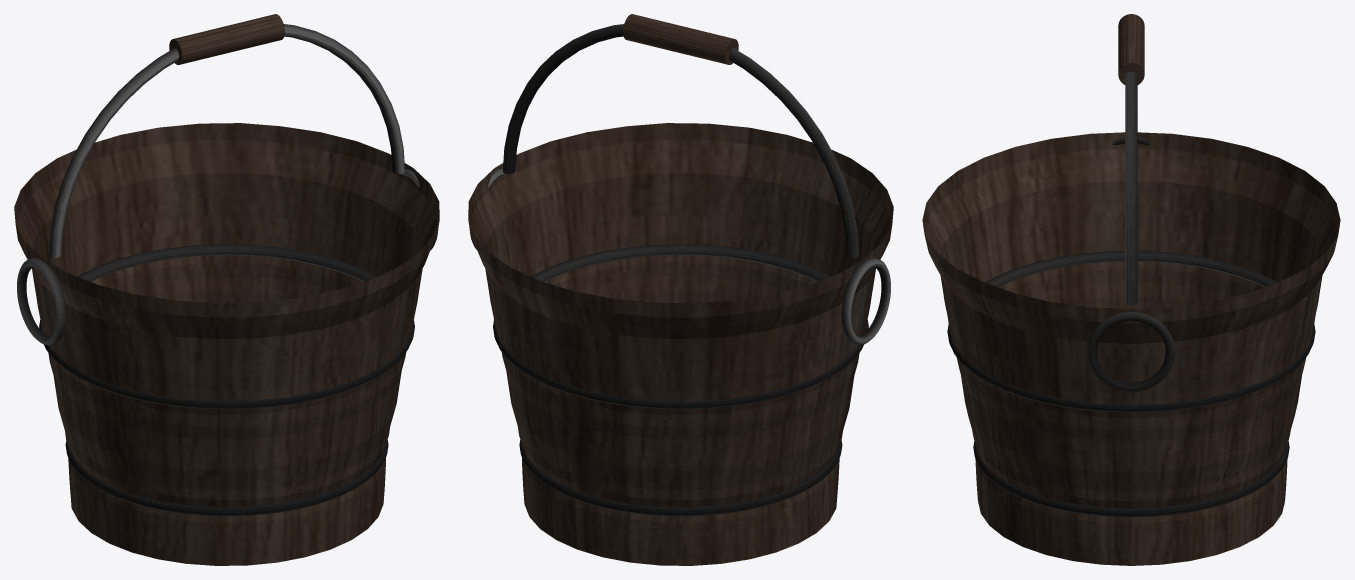
The model's file is WoodenBucket.glb.
3 views of the same model, side by side, from view 1: azimuth 30°, elevation 25°; view 2: azimuth 150°, elevation 25°; view 3: azimuth 270°, elevation 25° (orthographic). The views are drawn at different scales.
Visible parts, largest first — view 1: Cylinder, Torus, Torus.002, Torus.001, Cylinder.001, Torus.004; view 2: Cylinder, Torus, Torus.002, Torus.001, Cylinder.001, Torus.004; view 3: Cylinder, Torus, Torus.001, Torus.002, Torus.003, Cylinder.001.
Boxes of the visible parts, x1,y1,x2,y2 form: Cylinder: (14, 123, 439, 565); Torus: (39, 244, 414, 409); Torus.002: (49, 24, 405, 257); Torus.001: (65, 439, 388, 516); Cylinder.001: (169, 14, 284, 64); Torus.004: (17, 258, 66, 345); Cylinder: (468, 123, 893, 565); Torus: (493, 244, 868, 409); Torus.002: (502, 24, 858, 257); Torus.001: (519, 439, 842, 516); Cylinder.001: (623, 14, 738, 64); Torus.004: (841, 258, 890, 345); Cylinder: (922, 132, 1340, 565); Torus: (947, 251, 1315, 412); Torus.001: (973, 442, 1289, 517); Torus.002: (1125, 71, 1137, 305); Torus.003: (1087, 312, 1175, 391); Cylinder.001: (1118, 14, 1144, 84).
Size of the model in its own units: 2.58 by 3.06 by 2.51.
7 materials, 7 textured.
